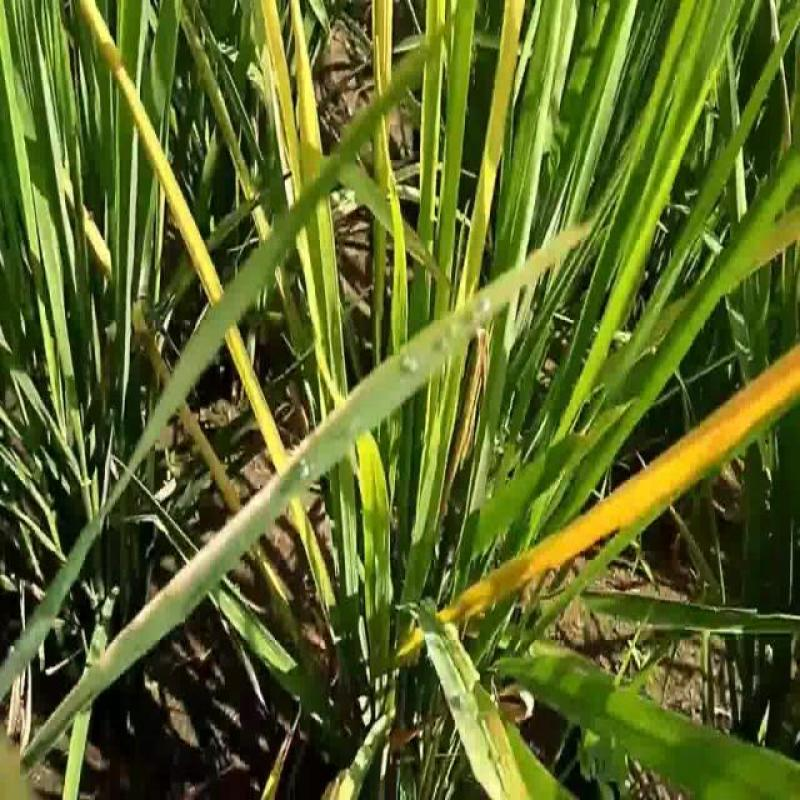Rice Tungro: (464, 330, 798, 640), (76, 2, 274, 453), (259, 2, 346, 372), (464, 1, 543, 375), (366, 1, 401, 301)
